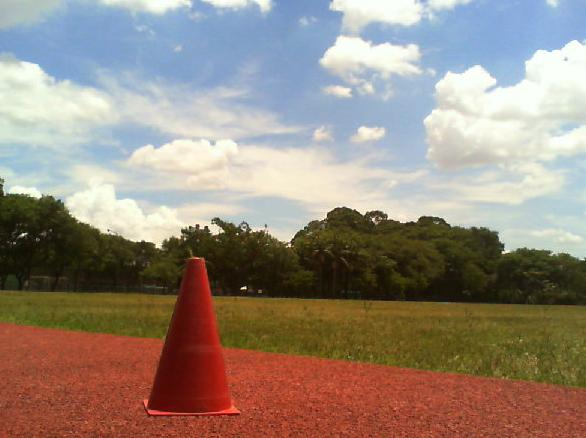0 cone: (143, 257, 241, 418)
